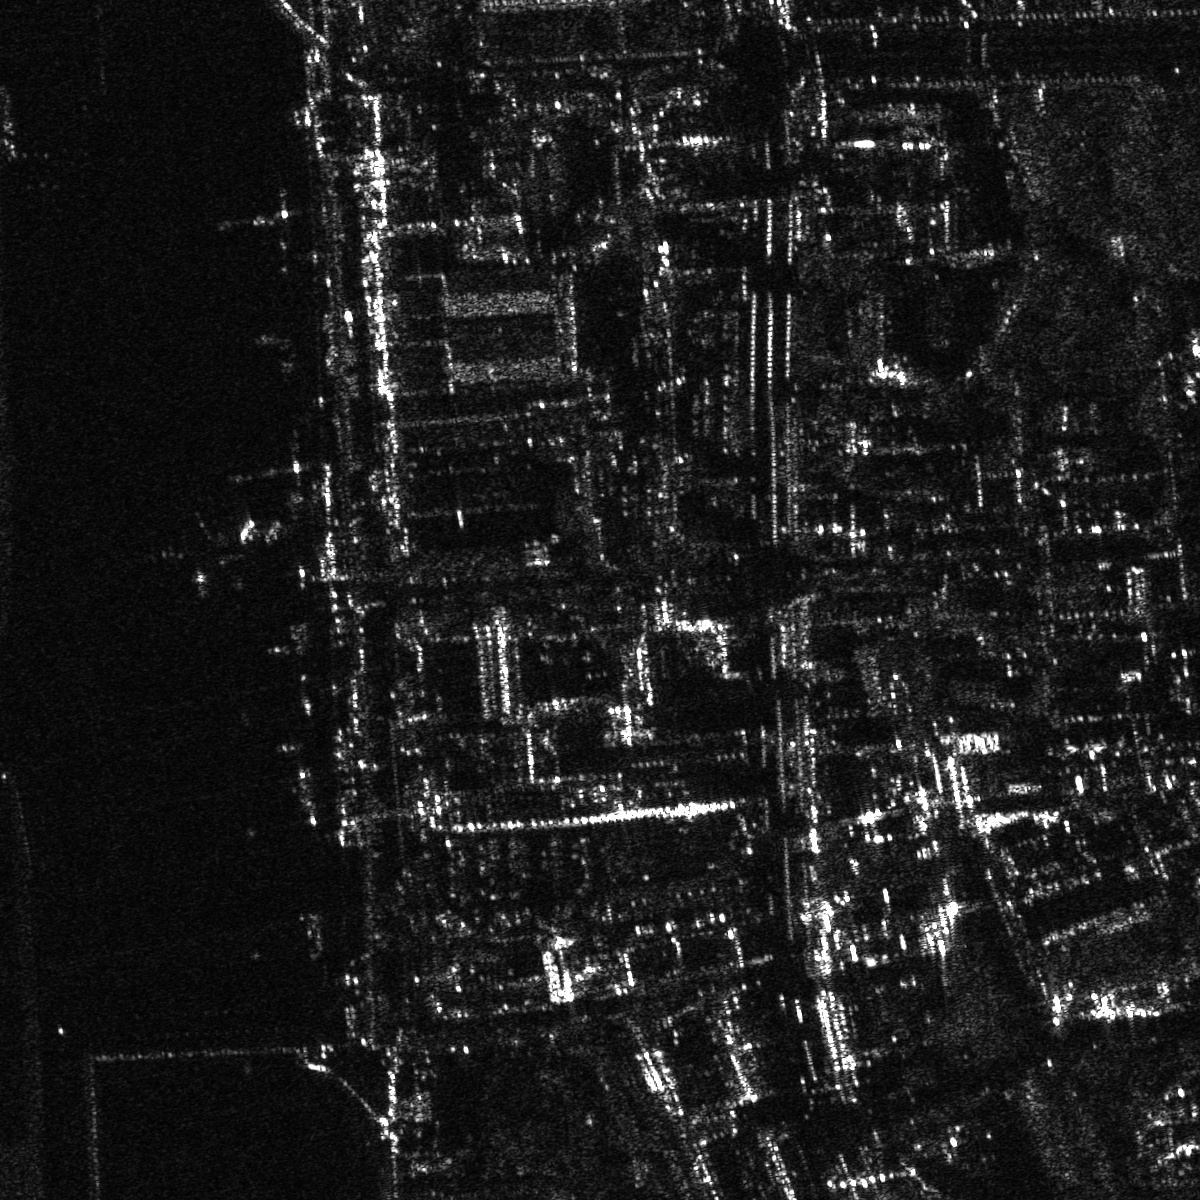A220: (142, 500, 288, 600)
